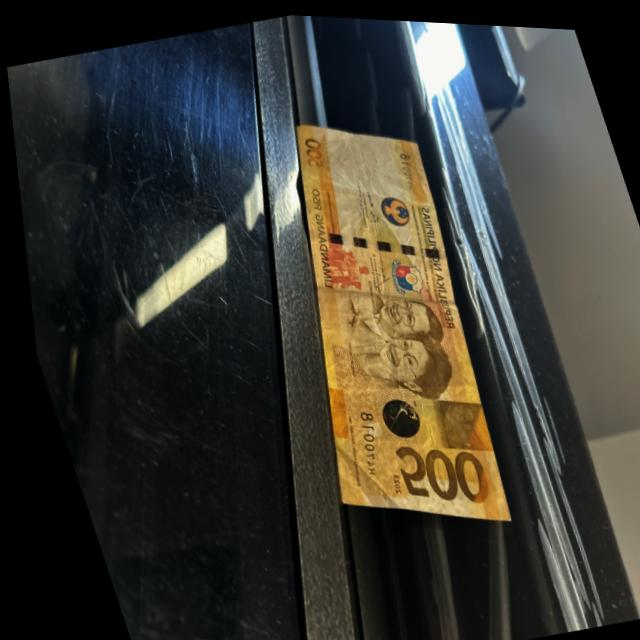concealed_value: (426, 390, 481, 450)
optically_variable_device: (370, 389, 419, 440)
watermark: (312, 115, 406, 206)
